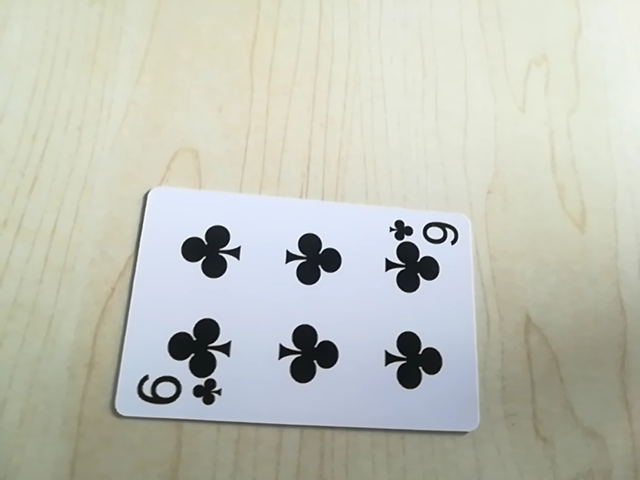mh 6: (132, 371, 226, 412), (386, 217, 460, 249)
